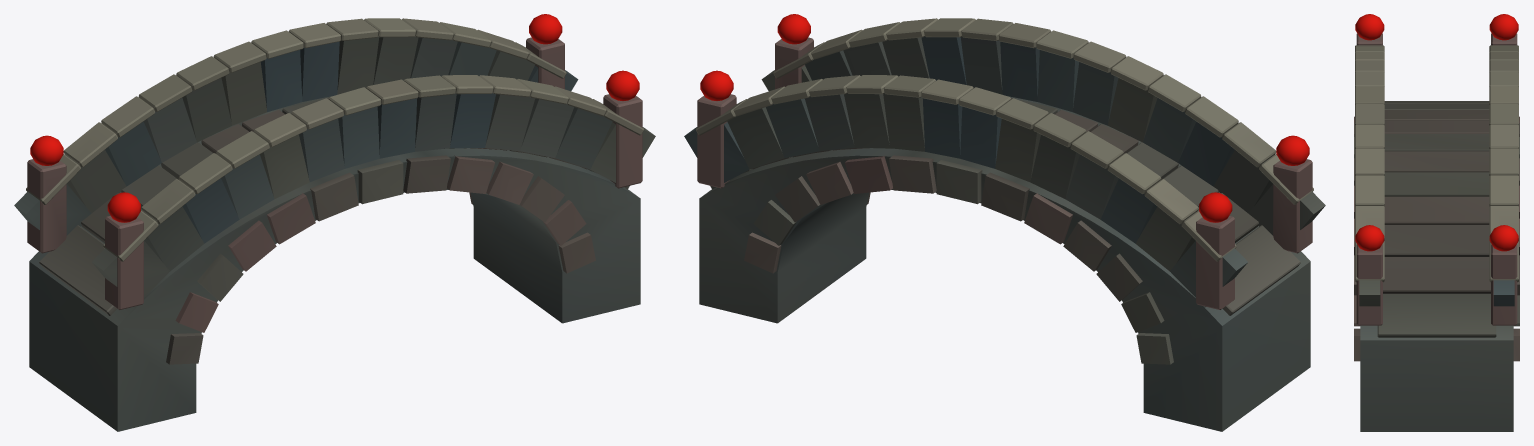
Rendered from stone-bridge.glb.
The picture shows the model from 3 angles, left to right: view 1: azimuth 30°, elevation 25°; view 2: azimuth 150°, elevation 25°; view 3: azimuth 270°, elevation 25°; orthographic projection. The views are drawn at different scales.
Parts seen in each view (by area): view 1: bridge-parapet, bridge-body, bridge-arch-ring, bridge-posts, bridge-paving, bridge-post-caps; view 2: bridge-parapet, bridge-body, bridge-arch-ring, bridge-posts, bridge-paving, bridge-post-caps; view 3: bridge-paving, bridge-body, bridge-parapet, bridge-posts, bridge-post-caps, bridge-arch-ring.
Boxes of the visible parts, box(x1,y1,x2,y2) form: bridge-parapet: box(14, 18, 655, 307); bridge-body: box(29, 96, 640, 431); bridge-arch-ring: box(166, 155, 595, 364); bridge-posts: box(27, 37, 642, 309); bridge-paving: box(39, 98, 629, 315); bridge-post-caps: box(30, 14, 639, 222); bridge-parapet: box(684, 18, 1325, 307); bridge-body: box(699, 96, 1310, 431); bridge-arch-ring: box(744, 155, 1173, 364); bridge-posts: box(697, 37, 1312, 309); bridge-paving: box(710, 98, 1300, 315); bridge-post-caps: box(700, 14, 1309, 222); bridge-paving: box(1377, 101, 1496, 337); bridge-body: box(1360, 325, 1513, 431); bridge-parapet: box(1355, 45, 1518, 306); bridge-posts: box(1356, 33, 1517, 325); bridge-post-caps: box(1355, 14, 1518, 251); bridge-arch-ring: box(1354, 116, 1519, 361).
Size of the model in its own units: 3.17 by 1.49 by 0.949.
